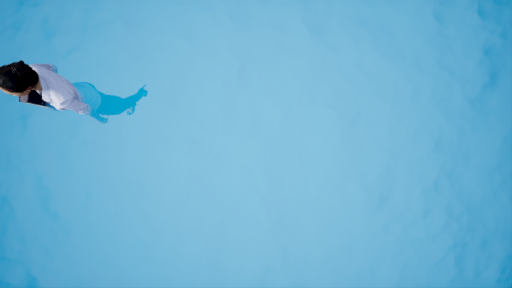person: (2, 55, 150, 127)
